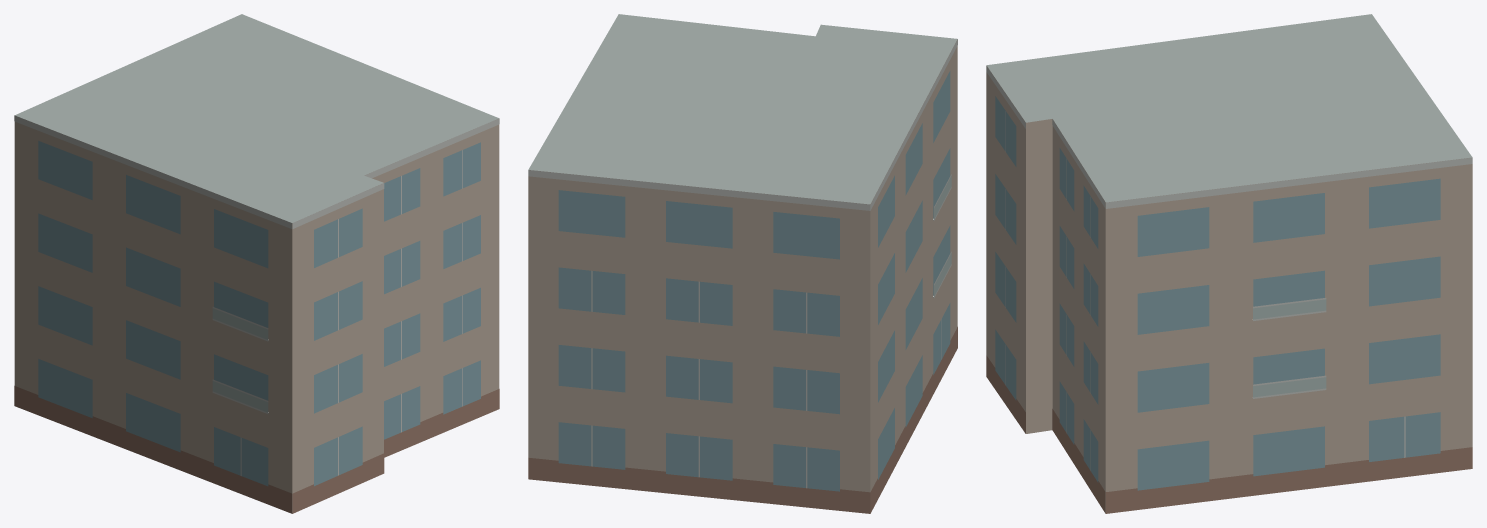
The model's file is survey-upis-32950128.glb.
3 renders of one model, left to right at view 1: azimuth 30°, elevation 25°; view 2: azimuth 150°, elevation 25°; view 3: azimuth 270°, elevation 25°, orthographic. The views are drawn at different scales.
Visible parts, largest first — view 1: survey-upis-32950128.tmp; view 2: survey-upis-32950128.tmp; view 3: survey-upis-32950128.tmp.
Part boxes in pixels (x1,y1,x2,y2): survey-upis-32950128.tmp: (14,14,499,513); survey-upis-32950128.tmp: (528,14,957,513); survey-upis-32950128.tmp: (986,14,1472,513).
Bounding box in the file's own units: 15.07 × 11.6 × 16.43.
